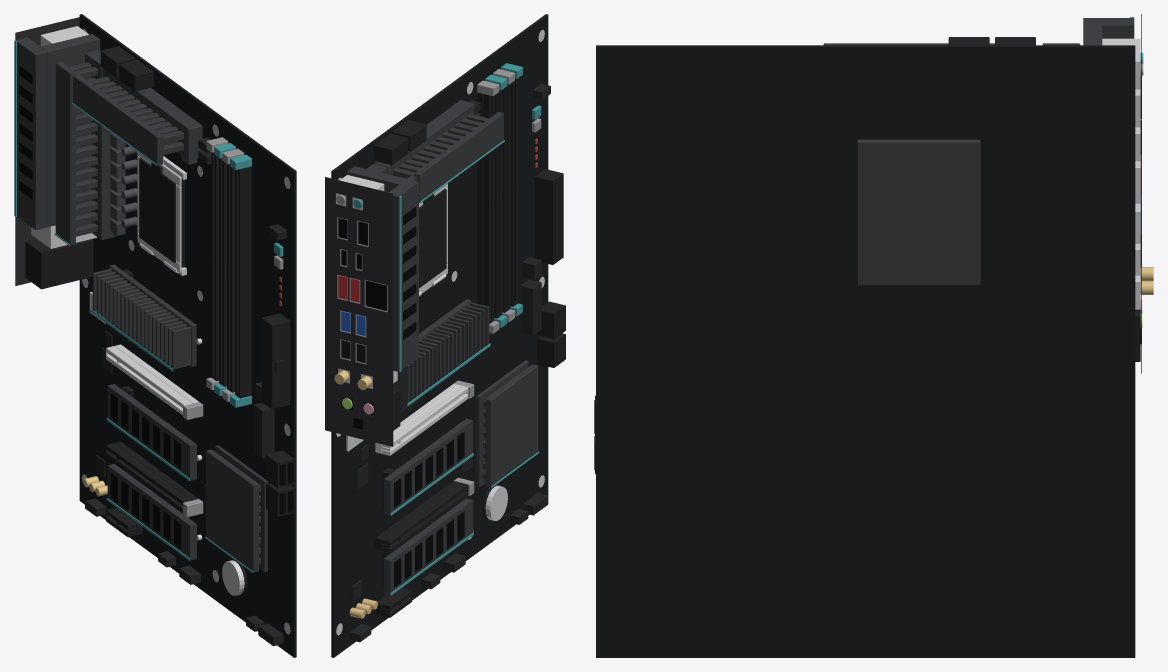
The model's file is MB_LGA1851_ATX01.glb.
3 renders of one model, left to right at view 1: azimuth 30°, elevation 25°; view 2: azimuth 150°, elevation 25°; view 3: azimuth 270°, elevation 25°, orthographic. The views are drawn at different scales.
Parts seen in each view (by area): view 1: PCB, IO_Cover, VRM_Heatsink_Left, VRM_Heatsink_Top, M2_0_Heatsink, Chipset_Heatsink, DIMM_B2, Rear_IO, M2_1_Heatsink, M2_2_Heatsink, Board_Components, Headers (+14 smaller); view 2: PCB, IO_Shield, Chipset_Heatsink, VRM_Heatsink_Top, IO_Cover, M2_0_Heatsink, Rear_IO, M2_2_Heatsink, M2_1_Heatsink, DIMM_A1, Headers, Power_ATX24 (+12 smaller); view 3: PCB, CPU_Backplate, Rear_IO, IO_Cover.
Boxes of the visible parts, x1,y1,x2,y2 form: PCB: [79, 14, 296, 657]; IO_Cover: [14, 34, 100, 229]; VRM_Heatsink_Left: [54, 50, 115, 245]; VRM_Heatsink_Top: [72, 68, 202, 165]; M2_0_Heatsink: [90, 264, 196, 371]; Chipset_Heatsink: [205, 445, 267, 572]; DIMM_B2: [230, 154, 251, 407]; Rear_IO: [25, 26, 96, 289]; M2_1_Heatsink: [106, 384, 196, 480]; M2_2_Heatsink: [106, 463, 196, 560]; Board_Components: [83, 133, 283, 503]; Headers: [85, 137, 286, 646]; PCB: [331, 14, 548, 657]; IO_Shield: [325, 177, 393, 446]; Chipset_Heatsink: [476, 360, 539, 487]; VRM_Heatsink_Top: [374, 100, 504, 202]; IO_Cover: [347, 166, 418, 371]; M2_0_Heatsink: [393, 299, 490, 406]; Rear_IO: [334, 175, 400, 430]; M2_2_Heatsink: [383, 498, 473, 595]; M2_1_Heatsink: [383, 418, 473, 515]; DIMM_A1: [477, 80, 499, 333]; Headers: [350, 83, 550, 642]; Power_ATX24: [534, 169, 563, 264]; PCB: [596, 45, 1135, 657]; CPU_Backplate: [857, 139, 980, 285]; Rear_IO: [1102, 38, 1153, 361]; IO_Cover: [1083, 17, 1134, 45].
Bounding box in the file's own units: 0.0474 × 0.305 × 0.2531.
